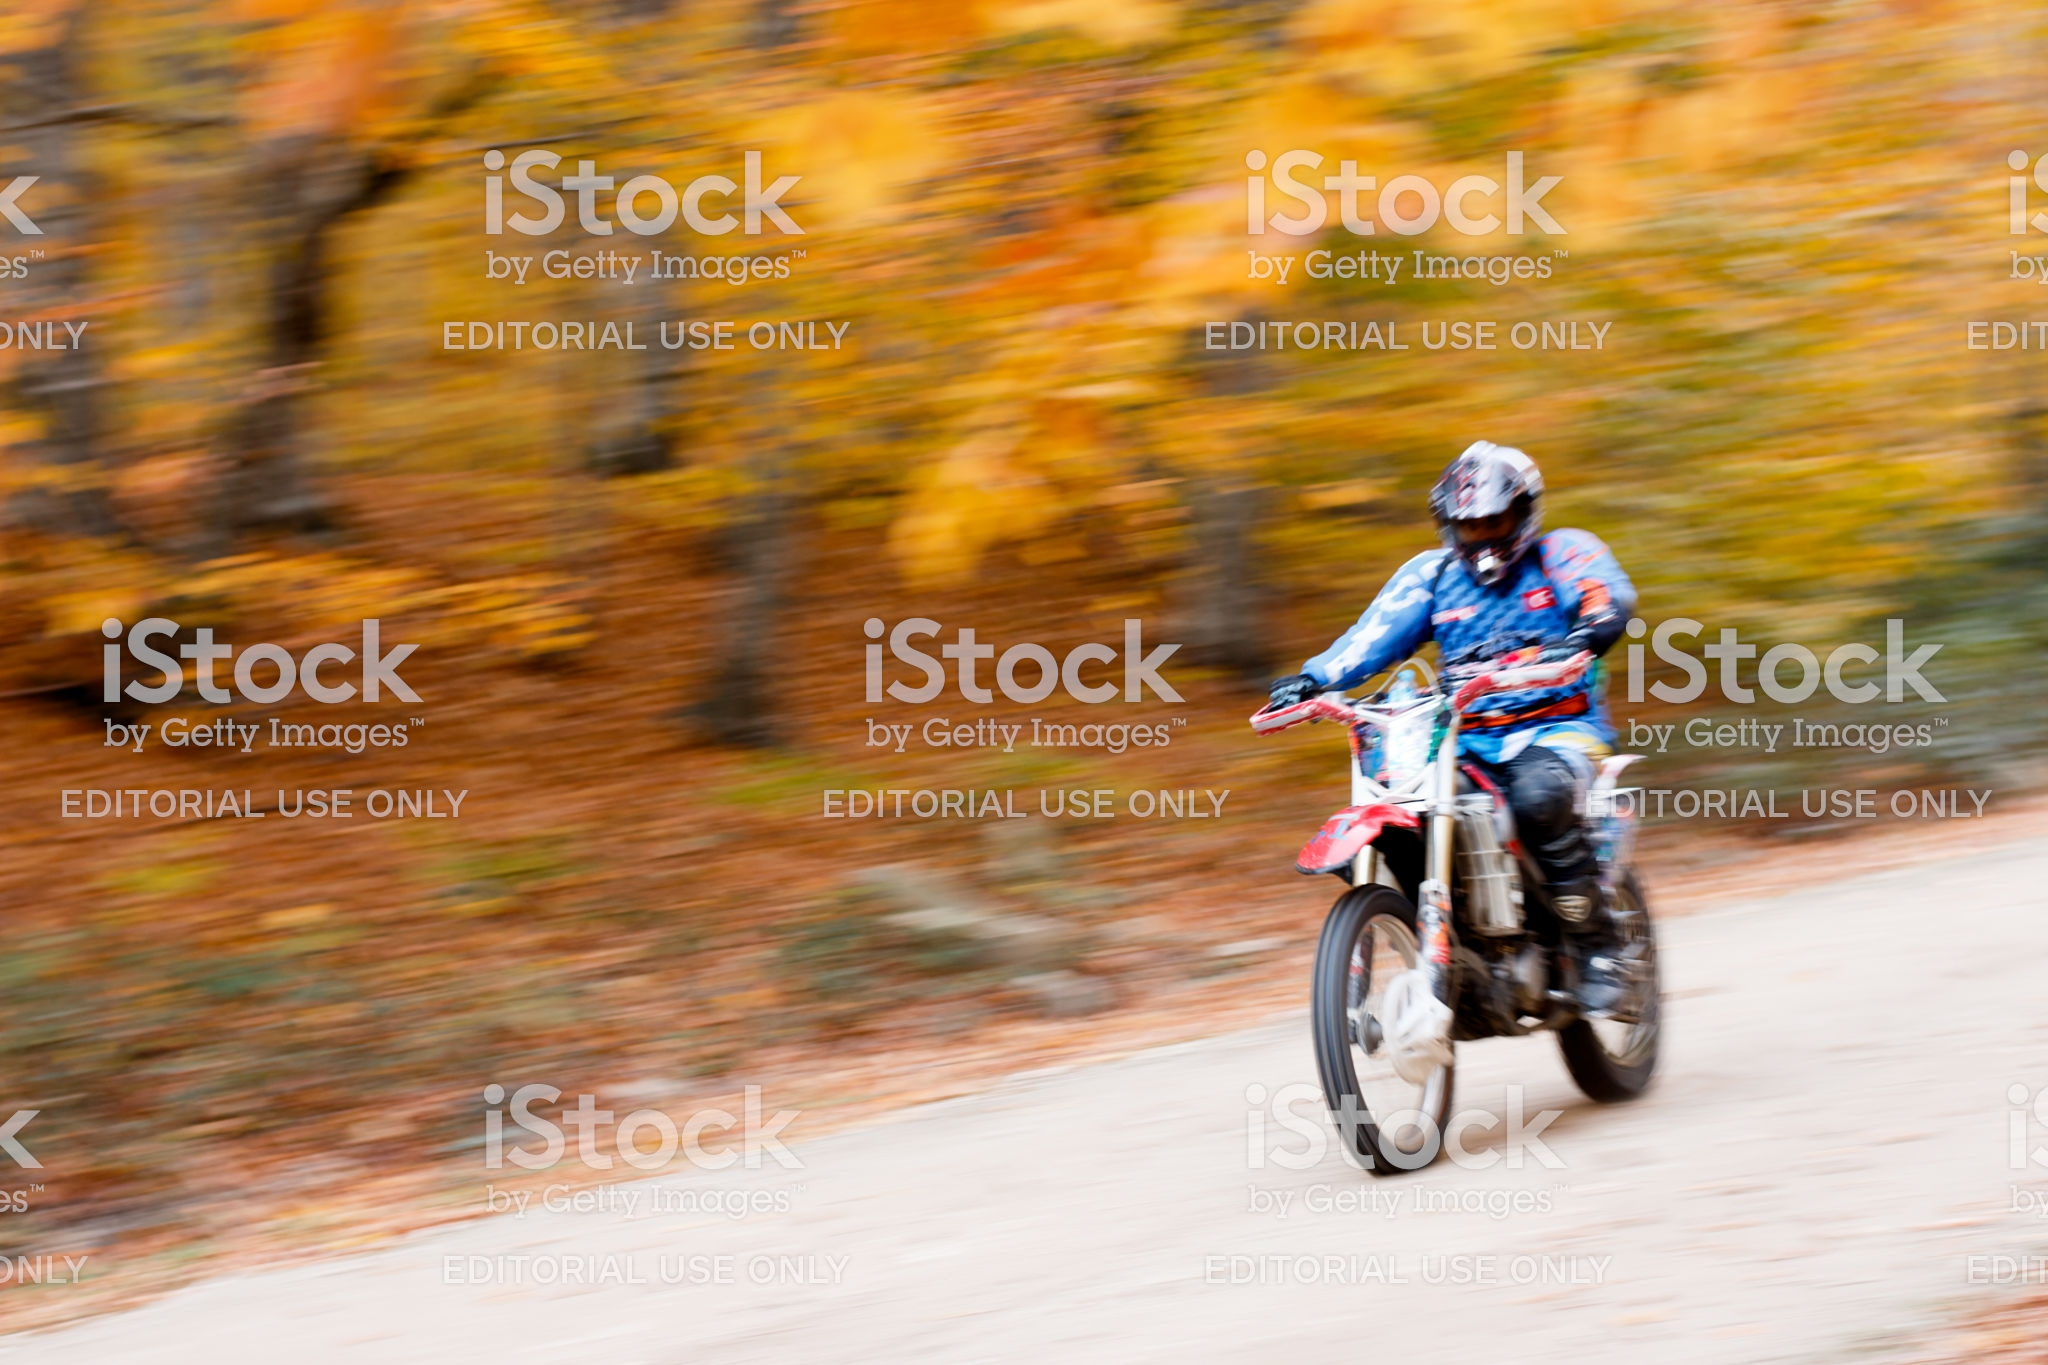helmet: (1443, 446, 1546, 564)
